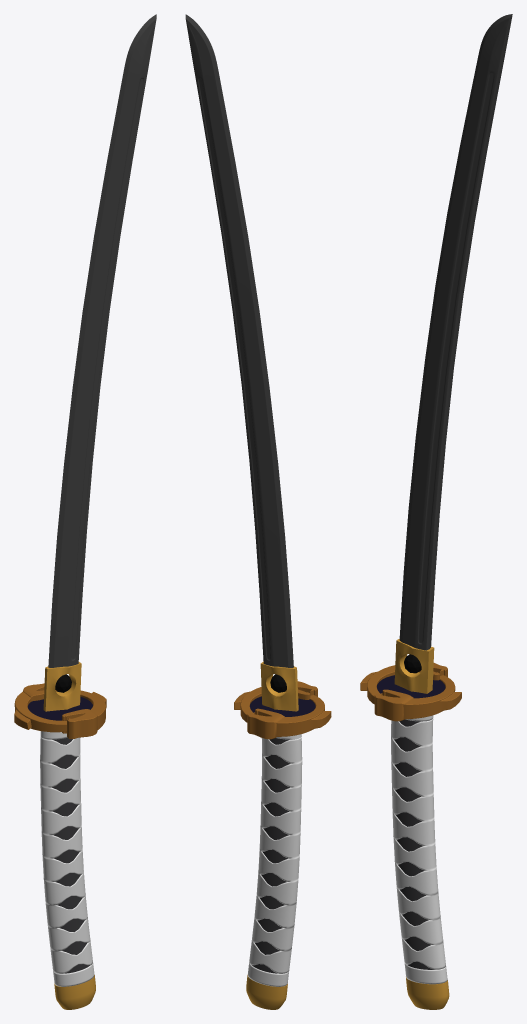
File: katana.fbx
The picture shows the model from 3 angles, left to right: view 1: azimuth 30°, elevation 25°; view 2: azimuth 150°, elevation 25°; view 3: azimuth 330°, elevation 25°; orthographic projection. The views are drawn at different scales.
Visible parts, largest first — view 1: Blade_HighPoly, ItoWrap_HighPoly, Grip_HighPoly, HiltEdge, RainGuard_HighPoly, Pommel_HighPoly, Head1, ItoWrapEnd_HighPoly, CrossGuard_HighPoly; view 2: Blade_HighPoly, ItoWrap_HighPoly, Grip_HighPoly, HiltEdge, RainGuard_HighPoly, Pommel_HighPoly, Head2, ItoWrapEnd_HighPoly, CrossGuard_HighPoly; view 3: Blade_HighPoly, ItoWrap_HighPoly, Grip_HighPoly, HiltEdge, RainGuard_HighPoly, Pommel_HighPoly, Head1, ItoWrapEnd_HighPoly, CrossGuard_HighPoly.
Part boxes in pixels (bbox=[...]): Blade_HighPoly: bbox=[48, 14, 156, 667]; ItoWrap_HighPoly: bbox=[40, 737, 92, 973]; Grip_HighPoly: bbox=[52, 737, 89, 973]; HiltEdge: bbox=[14, 690, 106, 732]; RainGuard_HighPoly: bbox=[43, 662, 81, 711]; Pommel_HighPoly: bbox=[54, 975, 95, 1009]; Head1: bbox=[62, 709, 97, 738]; ItoWrapEnd_HighPoly: bbox=[40, 731, 94, 986]; CrossGuard_HighPoly: bbox=[27, 696, 92, 720]; Blade_HighPoly: bbox=[185, 14, 293, 667]; ItoWrap_HighPoly: bbox=[249, 737, 302, 973]; Grip_HighPoly: bbox=[252, 738, 290, 973]; HiltEdge: bbox=[234, 687, 331, 736]; RainGuard_HighPoly: bbox=[260, 661, 298, 711]; Pommel_HighPoly: bbox=[246, 975, 287, 1009]; Head2: bbox=[247, 708, 284, 739]; ItoWrapEnd_HighPoly: bbox=[247, 734, 301, 986]; CrossGuard_HighPoly: bbox=[249, 696, 315, 716]; Blade_HighPoly: bbox=[399, 14, 512, 650]; ItoWrap_HighPoly: bbox=[391, 718, 445, 969]; Grip_HighPoly: bbox=[394, 719, 433, 969]; HiltEdge: bbox=[360, 665, 461, 719]; RainGuard_HighPoly: bbox=[394, 639, 434, 693]; Pommel_HighPoly: bbox=[406, 977, 449, 1009]; Head1: bbox=[374, 689, 413, 721]; ItoWrapEnd_HighPoly: bbox=[404, 715, 447, 984]; CrossGuard_HighPoly: bbox=[377, 675, 445, 698].
Size of the model in its own units: 77.31 by 513 by 47.65.
